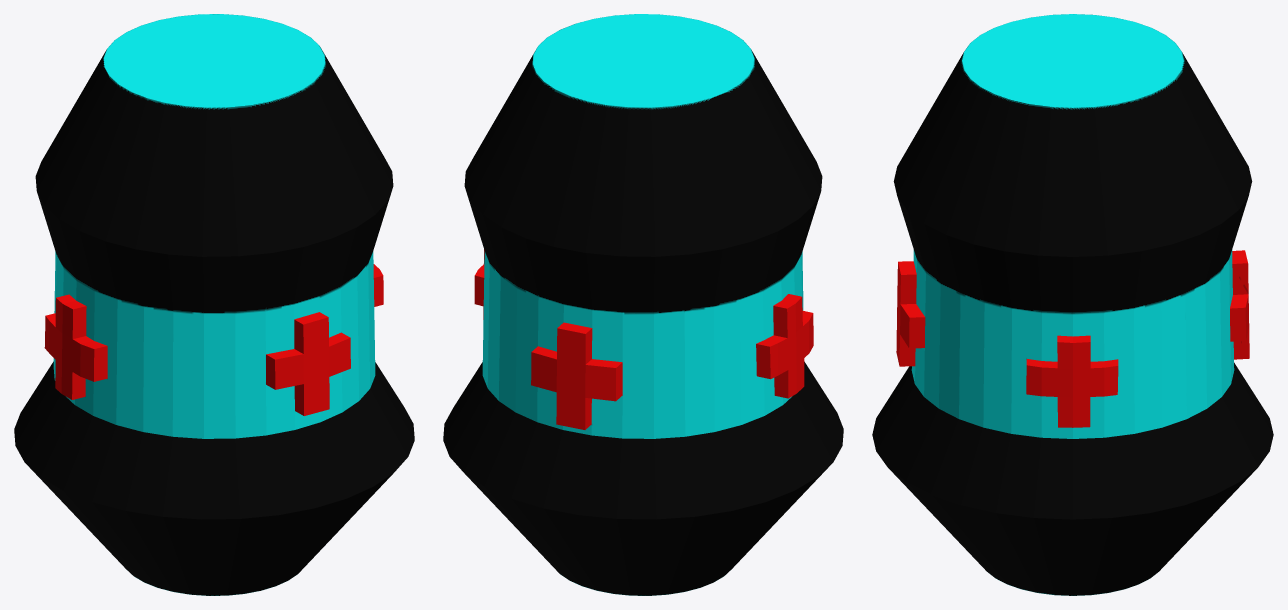
The model's file is health.fbx.
3 views of the same model, side by side, from view 1: azimuth 30°, elevation 25°; view 2: azimuth 150°, elevation 25°; view 3: azimuth 270°, elevation 25° (orthographic).
Parts seen in each view (by area): view 1: Cylinder; view 2: Cylinder; view 3: Cylinder.
Boxes of the visible parts, bbox=[...] form: Cylinder: bbox=[14, 14, 414, 595]; Cylinder: bbox=[443, 14, 843, 595]; Cylinder: bbox=[872, 14, 1273, 595].
Size of the model in its own units: 254 by 346 by 254.
